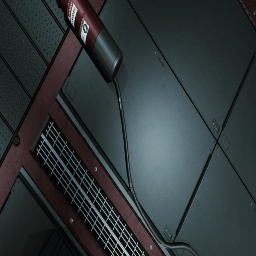NitrogenTank ,: (56, 0, 123, 82)
